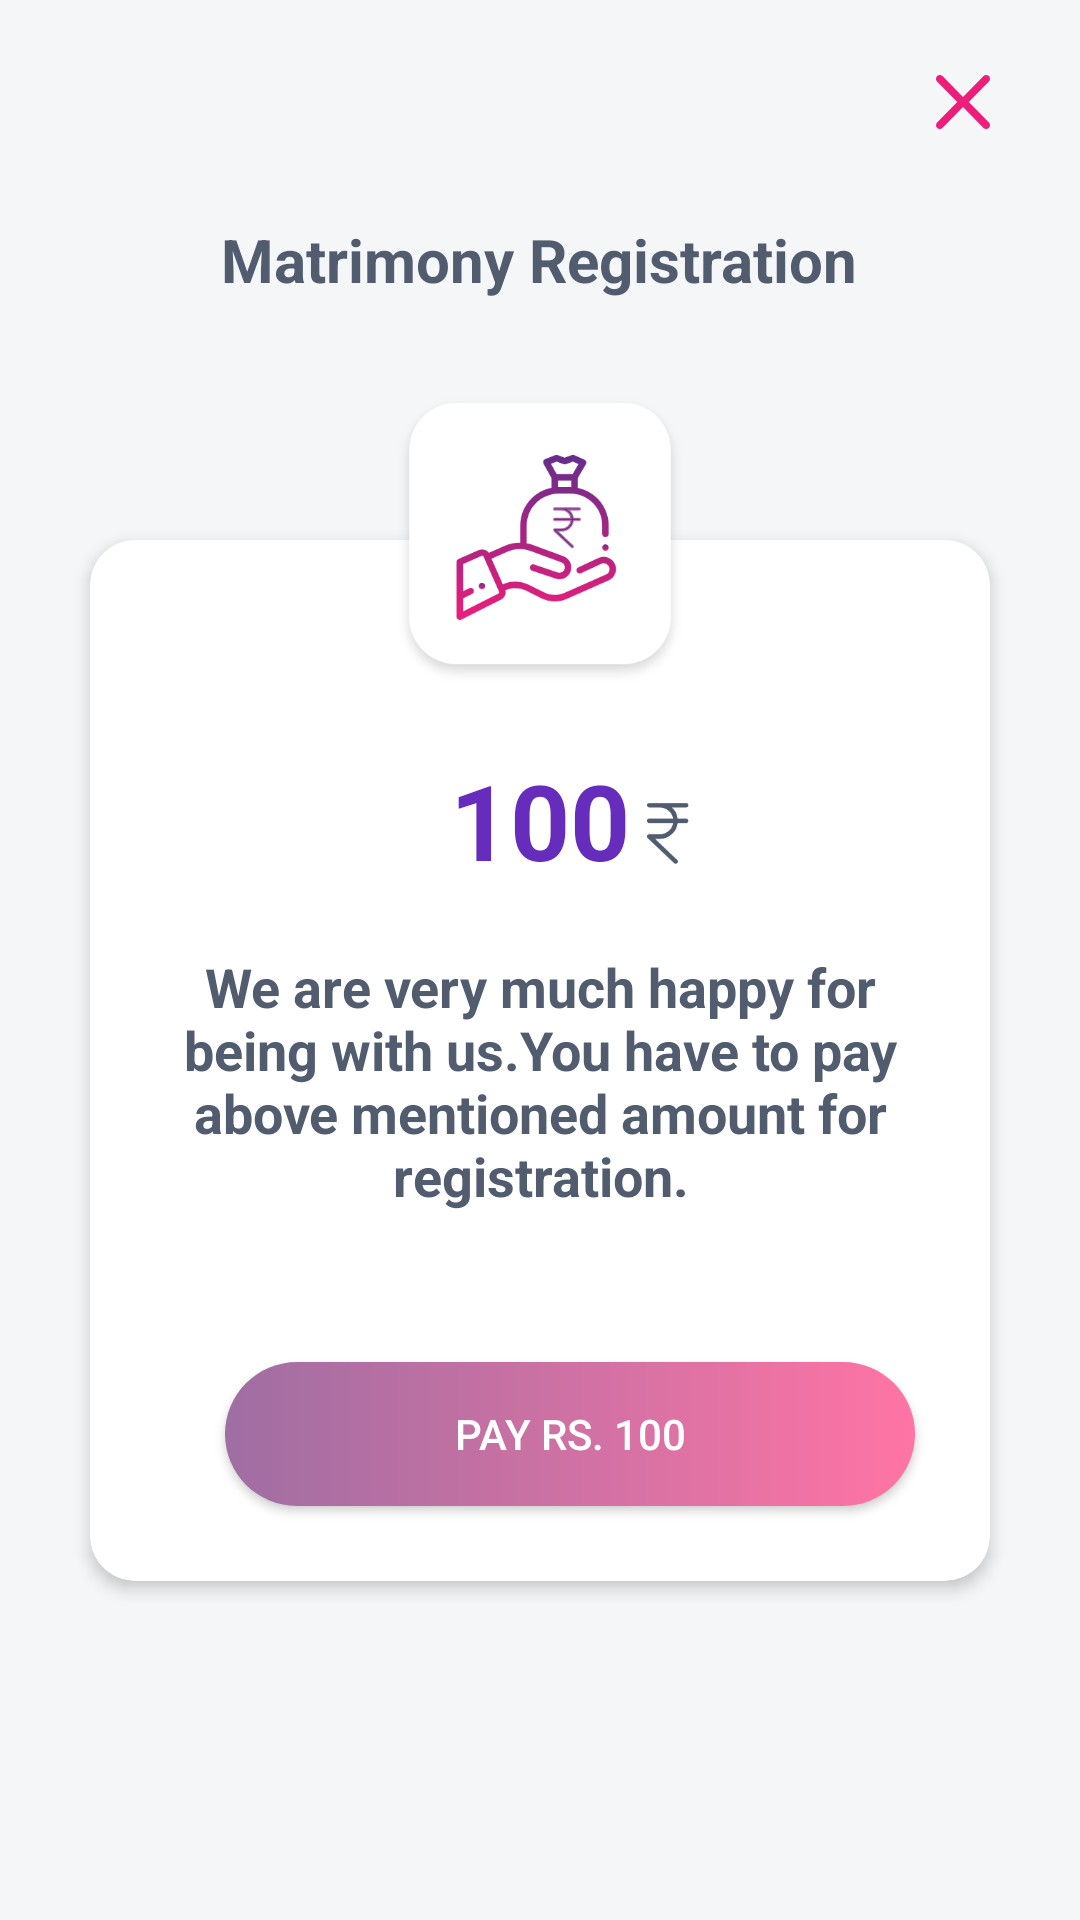

Icon click points for this 1080w x 1920h phone screenshot, format [x,y]:
close: [963,102]
